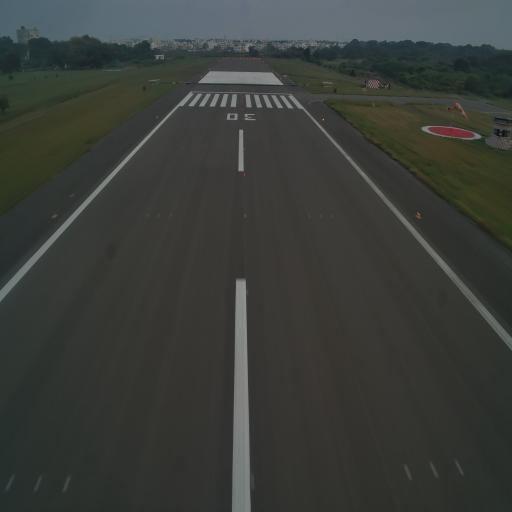off: (61, 470, 75, 500), (425, 456, 440, 482), (403, 459, 416, 486), (452, 453, 466, 477), (5, 472, 18, 497), (31, 470, 41, 496), (68, 188, 77, 200), (168, 210, 173, 220), (144, 212, 150, 220), (307, 212, 312, 221), (330, 212, 334, 222), (157, 211, 161, 219), (318, 212, 322, 220)
on: (245, 286, 250, 298), (416, 210, 420, 221), (242, 213, 246, 220), (242, 173, 246, 178)
